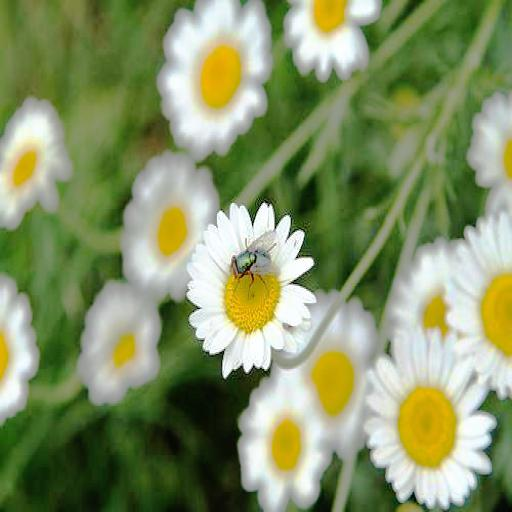daisy: (368, 336, 496, 512), (192, 206, 306, 372), (163, 3, 267, 148), (121, 154, 220, 296), (448, 215, 512, 393), (242, 376, 328, 508), (292, 304, 375, 432), (79, 286, 162, 400), (395, 254, 468, 363), (1, 277, 39, 432), (468, 94, 512, 208)
